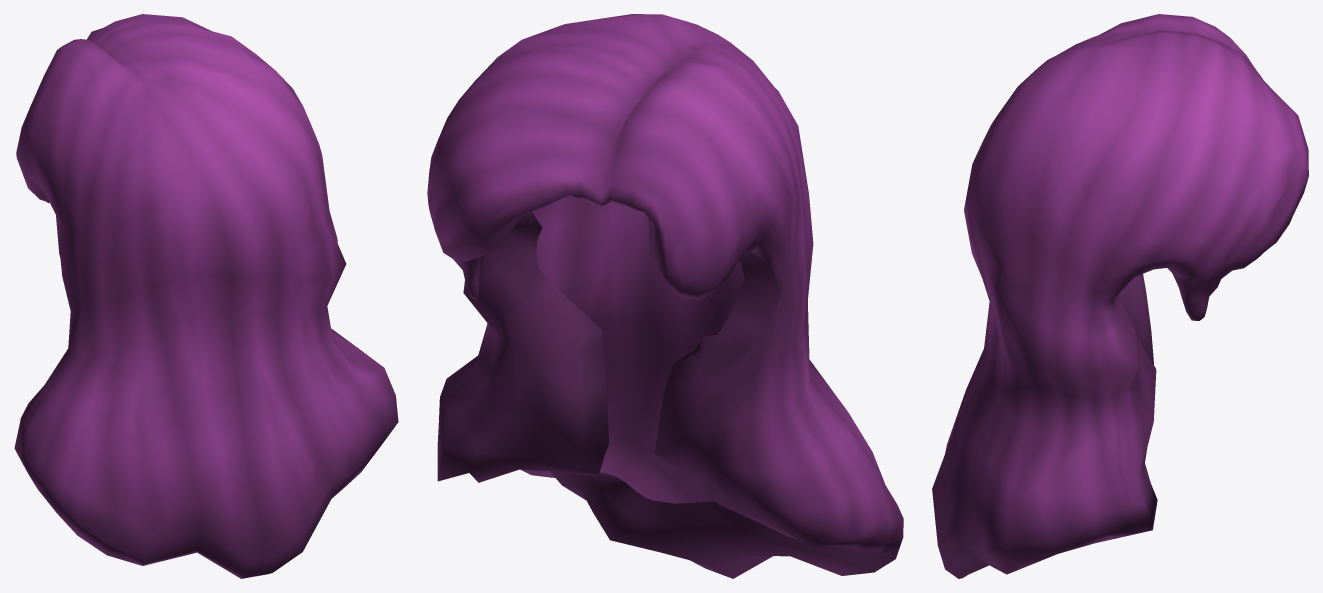
Rendered from Hair_Female_003_textured_purple.glb.
3 views of the same model, side by side, from view 1: azimuth 30°, elevation 25°; view 2: azimuth 150°, elevation 25°; view 3: azimuth 270°, elevation 25° (orthographic). The views are drawn at different scales.
Parts seen in each view (by area): view 1: Hair_Female_003; view 2: Hair_Female_003; view 3: Hair_Female_003.
Boxes of the visible parts, x1,y1,x2,y2 form: Hair_Female_003: (14, 14, 398, 578); Hair_Female_003: (427, 14, 903, 578); Hair_Female_003: (932, 14, 1308, 578).
Bounding box in the file's own units: 0.2864 × 0.3854 × 0.2514.
1 material, 1 textured.
